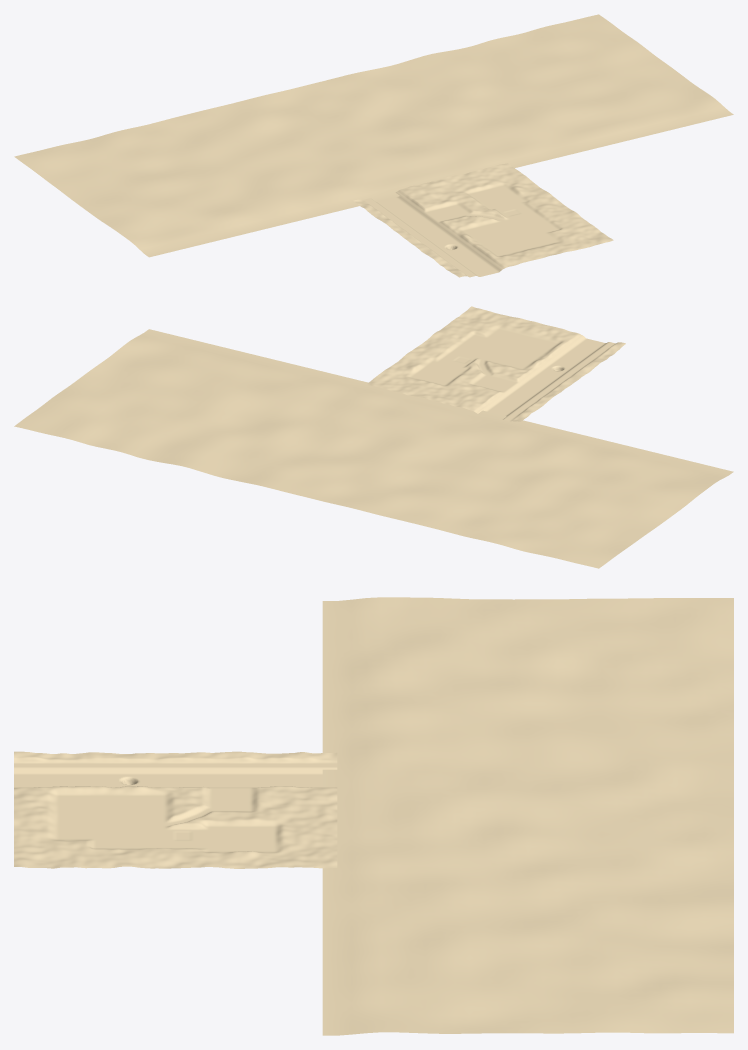
Rendered from egypt_terrain.fbx.
The picture shows the model from 3 angles, top to bottom: view 1: azimuth 30°, elevation 25°; view 2: azimuth 150°, elevation 25°; view 3: azimuth 270°, elevation 25°; orthographic projection. The views are drawn at different scales.
Visible parts, largest first — view 1: FarSand__Sand, Terrain__Sand; view 2: FarSand__Sand, Terrain__Sand; view 3: FarSand__Sand, Terrain__Sand.
Part boxes in pixels (x1,y1,x2,y2): FarSand__Sand: [14, 14, 733, 257]; Terrain__Sand: [353, 163, 613, 277]; FarSand__Sand: [14, 329, 733, 568]; Terrain__Sand: [366, 306, 625, 421]; FarSand__Sand: [322, 597, 733, 1035]; Terrain__Sand: [14, 751, 337, 868].
Bounding box in the file's own units: 1400 × 23.08 × 980.
